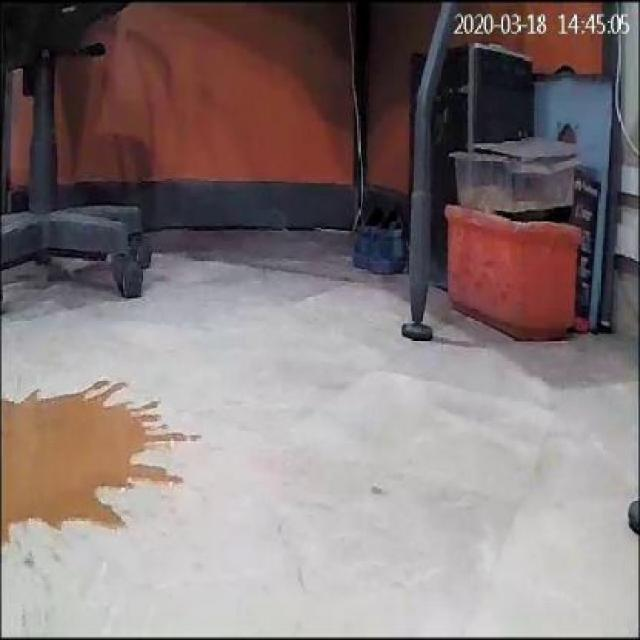spill: (2, 362, 196, 555)
